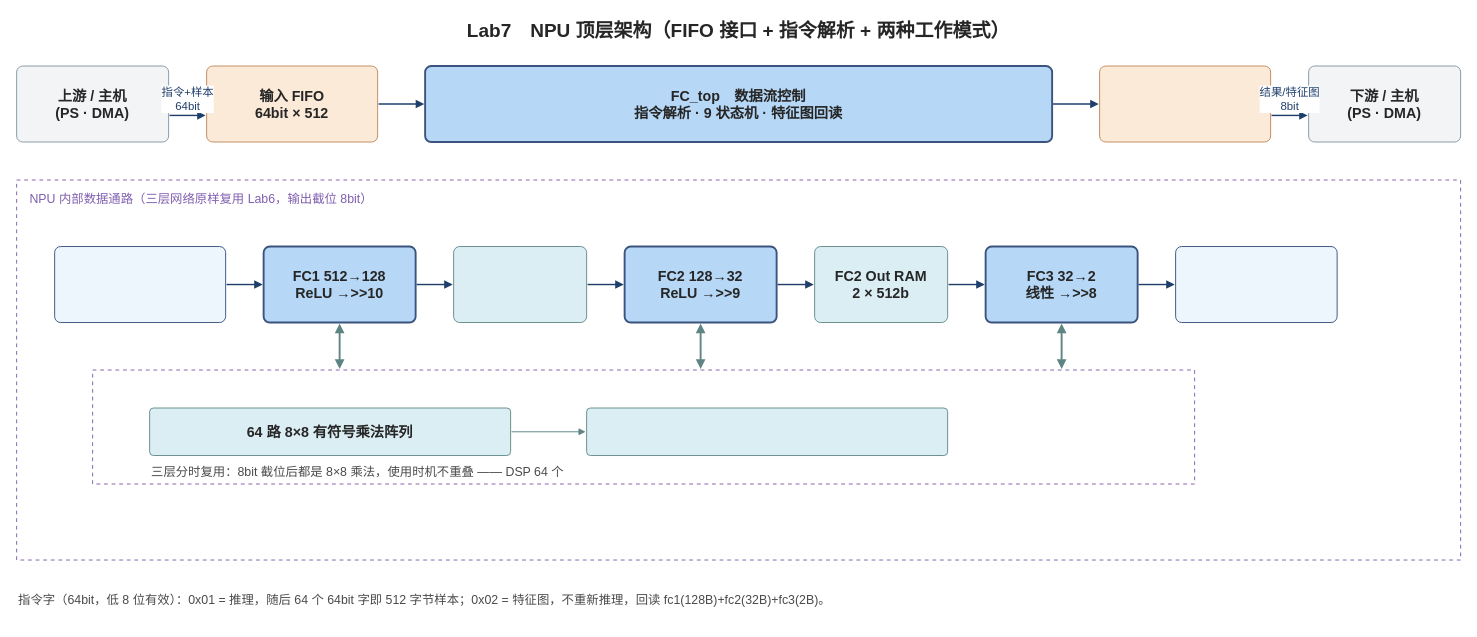
This 1477x637 diagram has some shape labels left out. The shapes that lost their labels are listed below. From the top down, each one's centre as x and y in pixels, then its label:
At (1185,103): "输出 FIFO 8bit × 512".
At (140,284): "输入样本 RAM 1024b × 4 行 （FIFO 写入）".
At (520,284): "FC1 Out RAM 2 × 512b".
At (1256,284): "FC3 结果 2 × 8bit （寄存器，不占 BRAM）".
At (767,431): "64 输入平衡加法树（6 级）".
